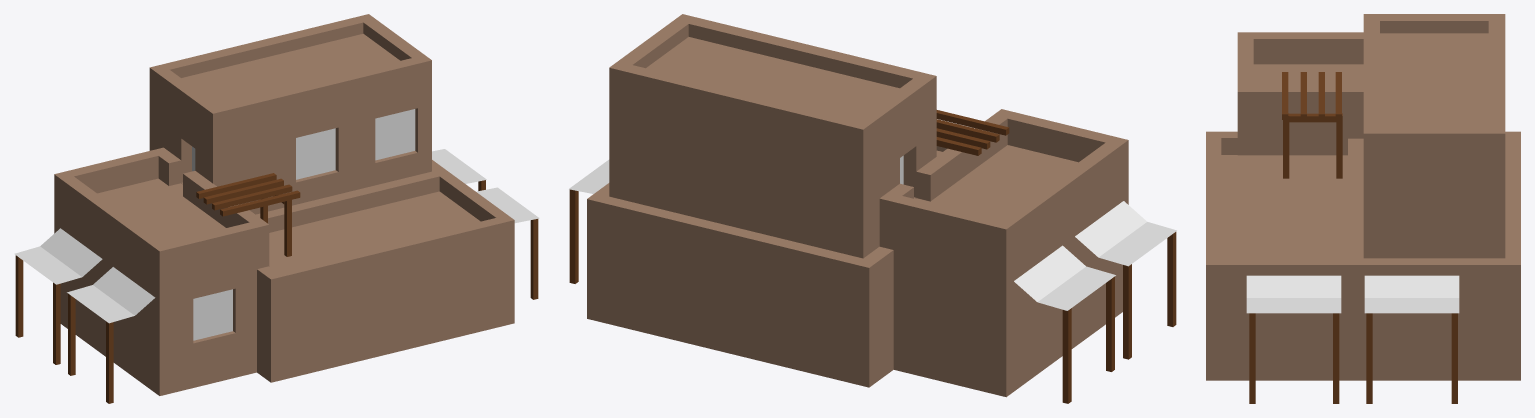
The model's file is casaTipo1.fbx.
3 views of the same model, side by side, from view 1: azimuth 30°, elevation 25°; view 2: azimuth 150°, elevation 25°; view 3: azimuth 270°, elevation 25° (orthographic). The views are drawn at different scales.
Parts seen in each view (by area): view 1: Cube.070; view 2: Cube.070; view 3: Cube.070.
Part boxes in pixels (x1,y1,x2,y2): Cube.070: (14,14,539,403); Cube.070: (569,14,1176,403); Cube.070: (1206,14,1520,403).
Size of the model in its own units: 4186 by 1992 by 2368.
